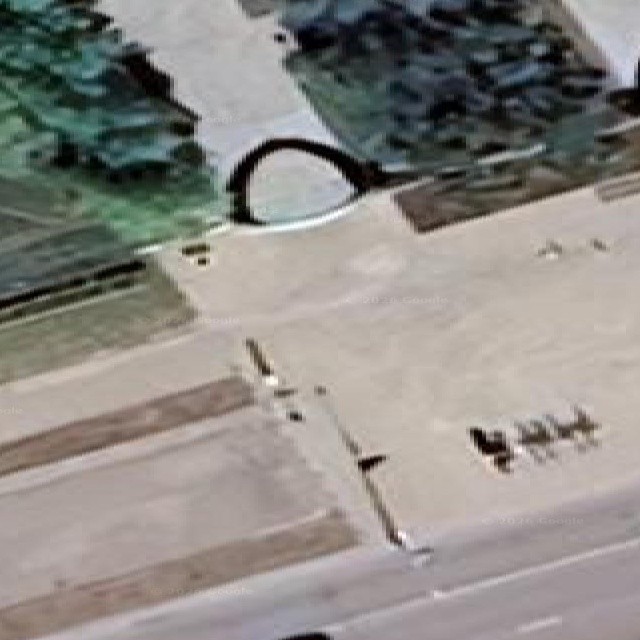car: (278, 632, 331, 639)
